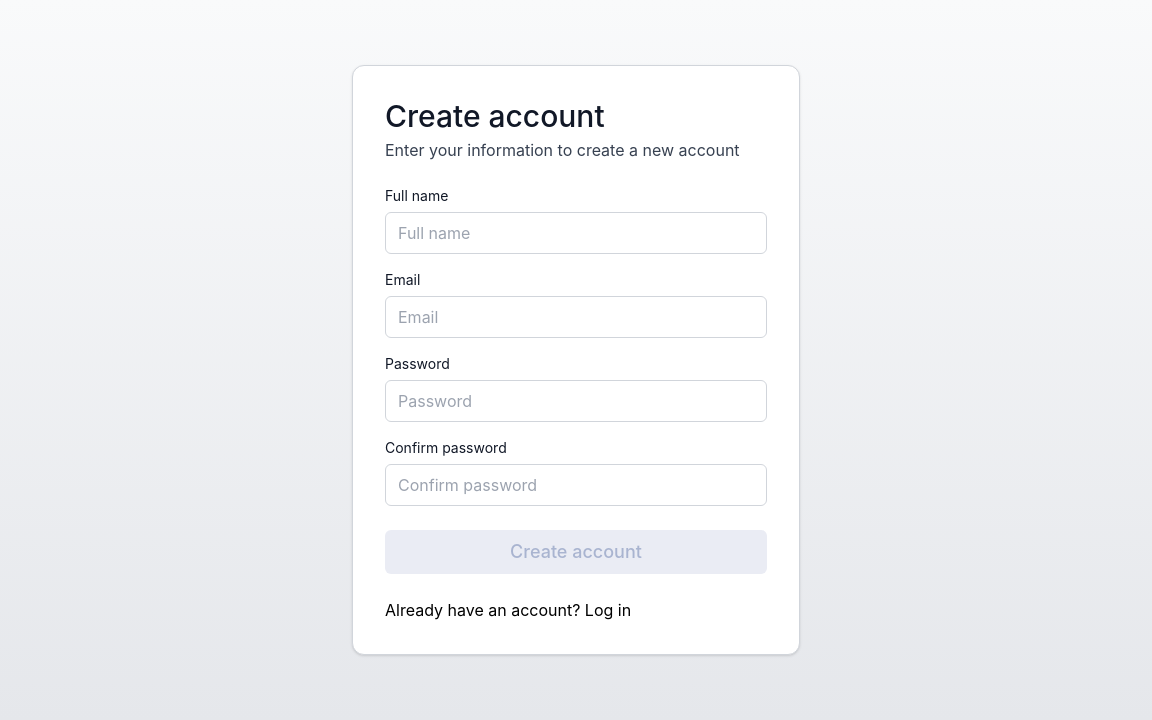
Scenario: SignupForm › enables the submit button once a field has been edited
In the field labelled "Full name": (576, 233) [385,212,767,254], type "Jane Doe"
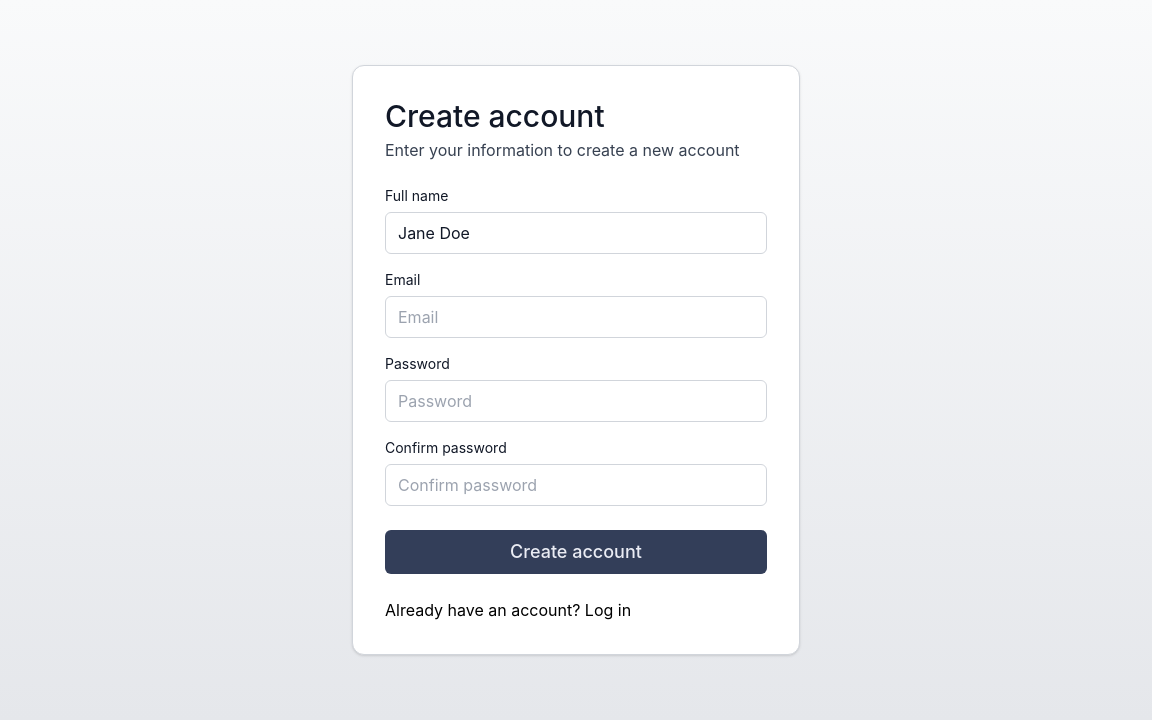
Expected: the button "Create account" is enabled, [385,530,767,574]
